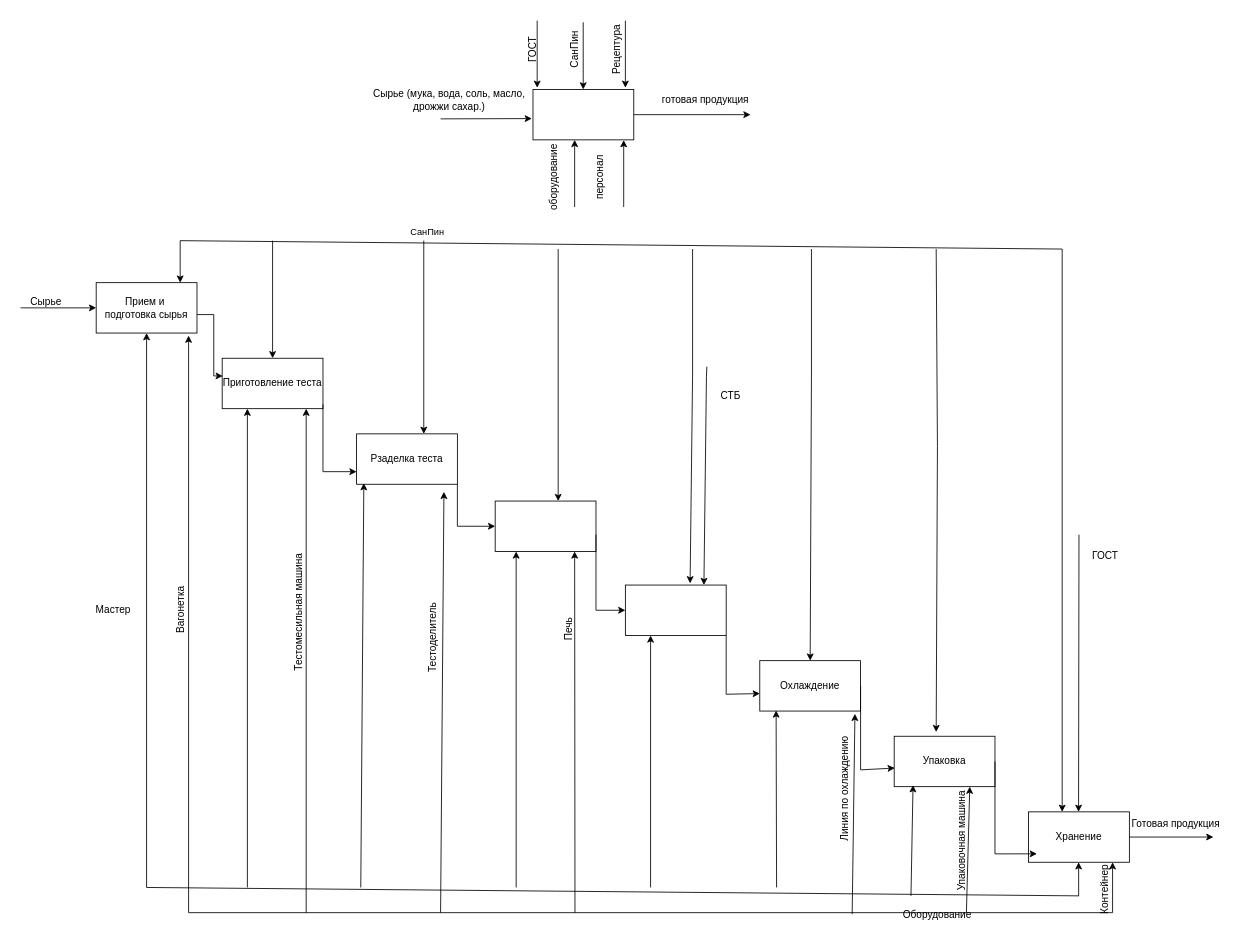
Some shapes in this 1245 by 942 pixel diagram are drawn without their labels. Each missing label, with the centre of its shape:
"Выпечка" belongs at point (545, 525).
"Контроль готовой продукции" belongs at point (675, 609).
"Производство хлеба из ржаной муки" belongs at point (583, 114).
